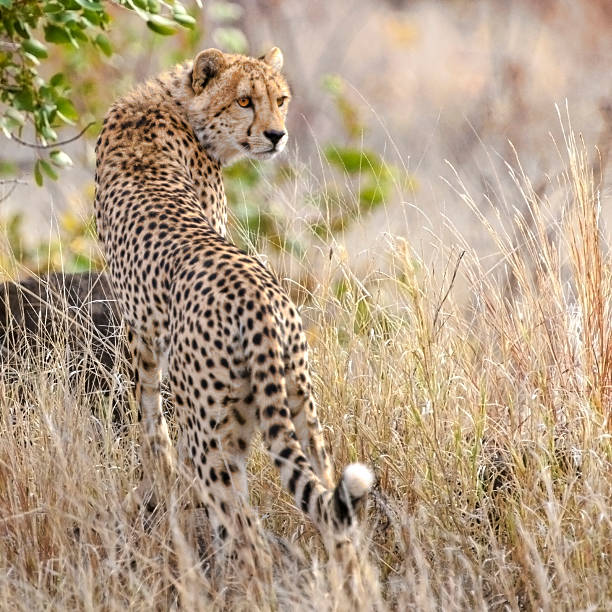cheetah: (180, 39, 295, 176)
